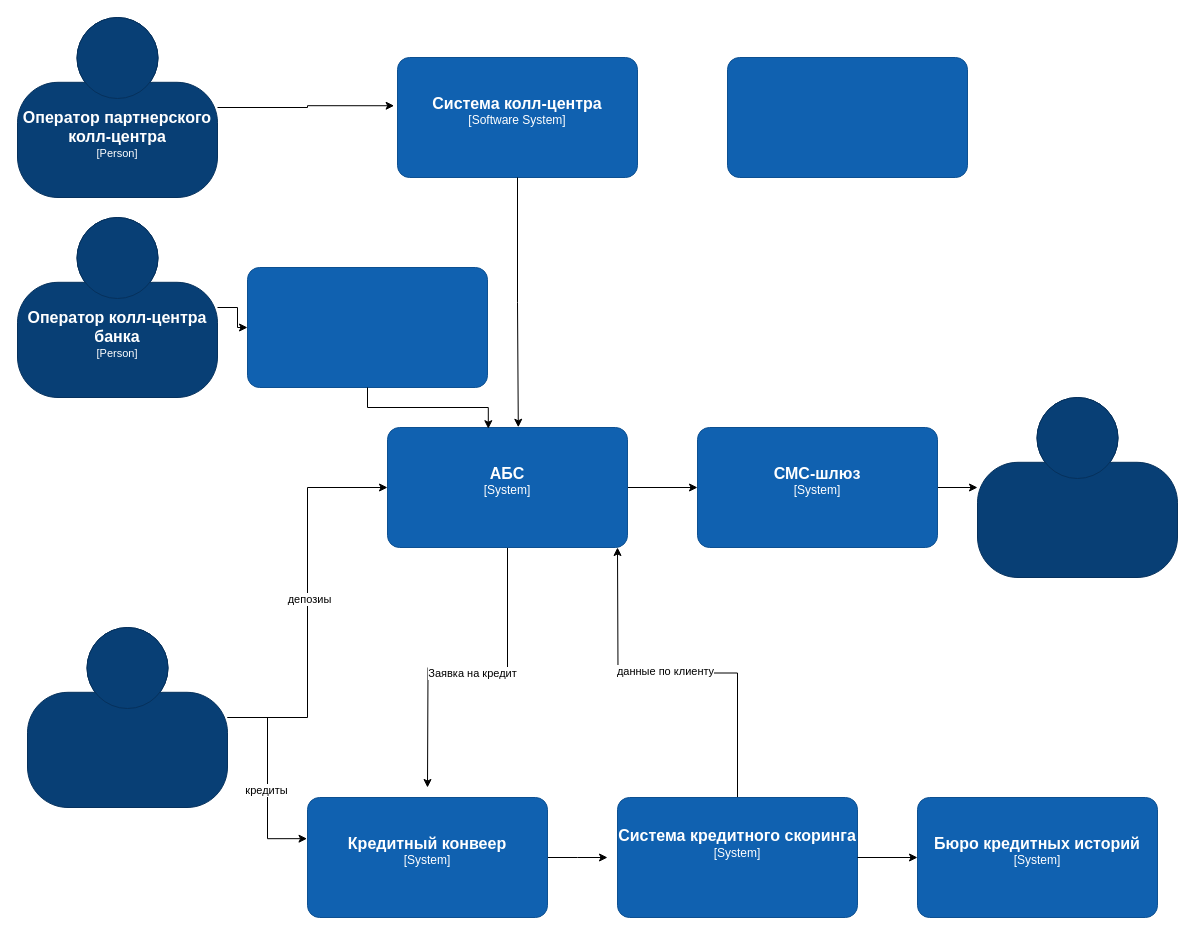
Image size: 1195x935. Some labels were removed from this diagram. Here are the shapes that lost their labels. From the top down, the box of each, then its label:
(726, 56, 968, 178): Сайт [System]
(246, 266, 488, 388): Партнерский колл-центр [System]
(976, 396, 1178, 578): Клиент [Person]
(26, 626, 228, 808): Менеджер бек-офиса [Person]
